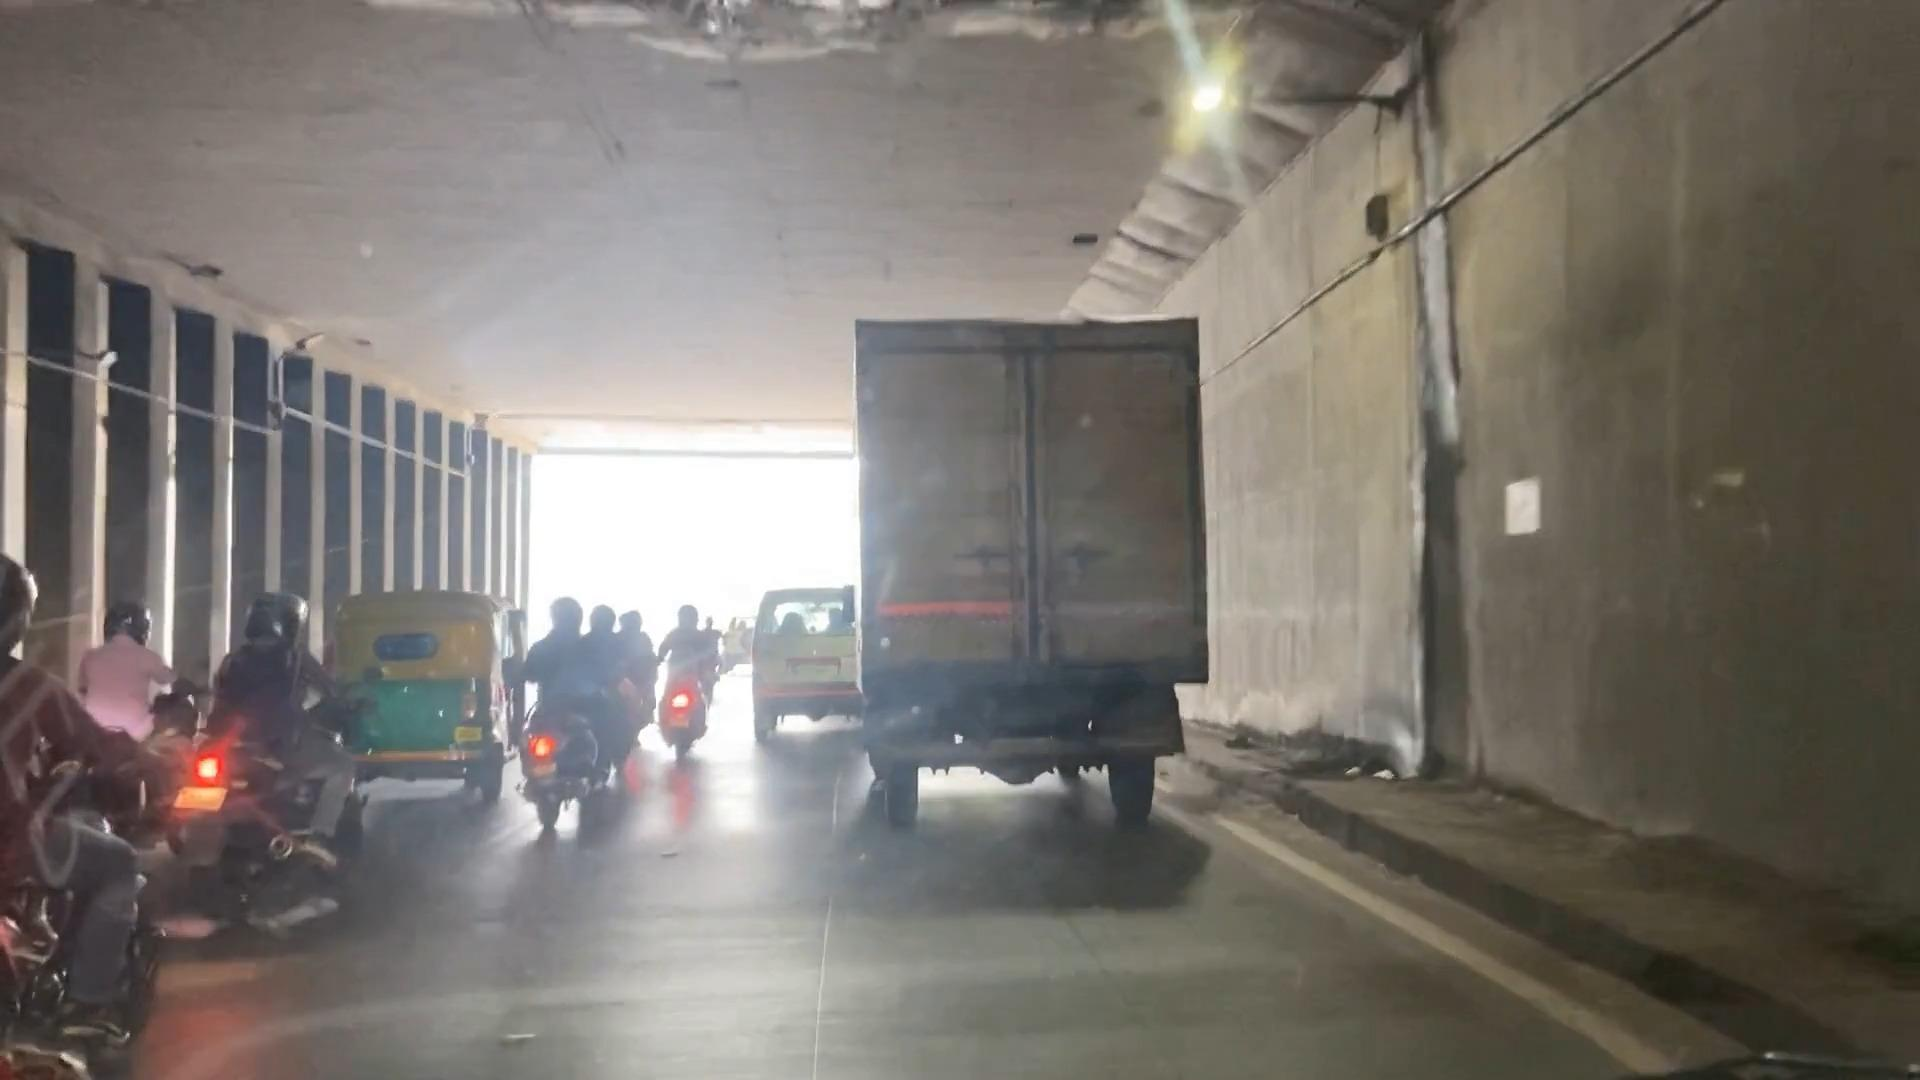HMV: (853, 313, 1195, 807)
LMV: (181, 630, 390, 920), (533, 600, 600, 815), (653, 610, 730, 754)
